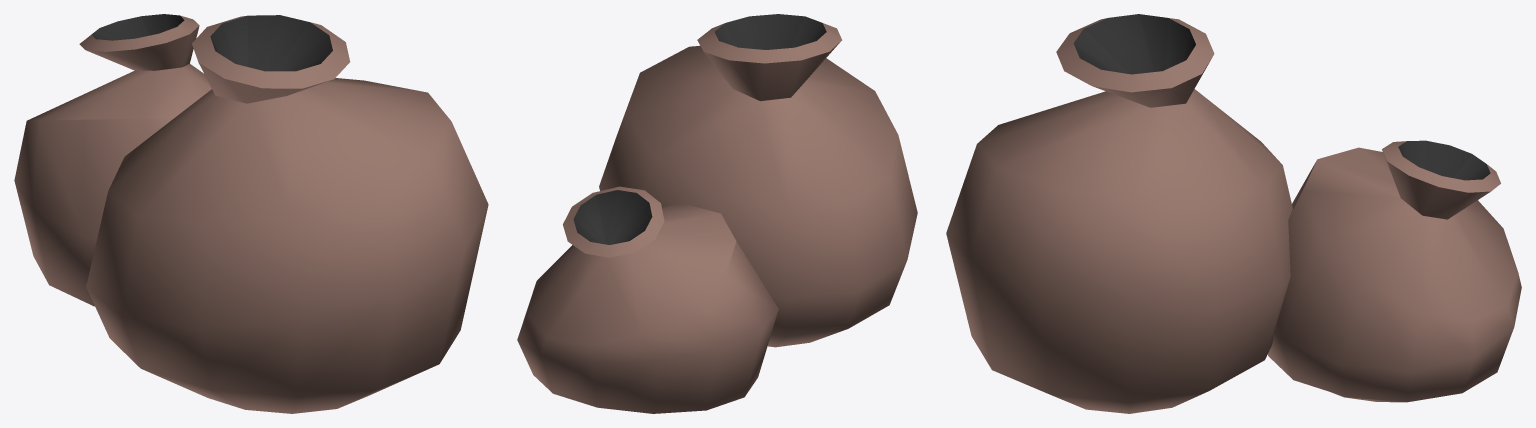
Rendered from n4_jug_002_lev4.glb.
3 views of the same model, side by side, from view 1: azimuth 30°, elevation 25°; view 2: azimuth 150°, elevation 25°; view 3: azimuth 270°, elevation 25° (orthographic). The views are drawn at different scales.
Visible parts, largest first — view 1: n4_jug_002_lev4; view 2: n4_jug_002_lev4; view 3: n4_jug_002_lev4.
Part boxes in pixels (bbox=[...]): n4_jug_002_lev4: bbox=[14, 14, 488, 413]; n4_jug_002_lev4: bbox=[517, 14, 917, 413]; n4_jug_002_lev4: bbox=[946, 14, 1521, 413].
Bounding box in the file's own units: 1.04 × 0.9908 × 1.56.
Materials: 1 (1 with a texture image).
